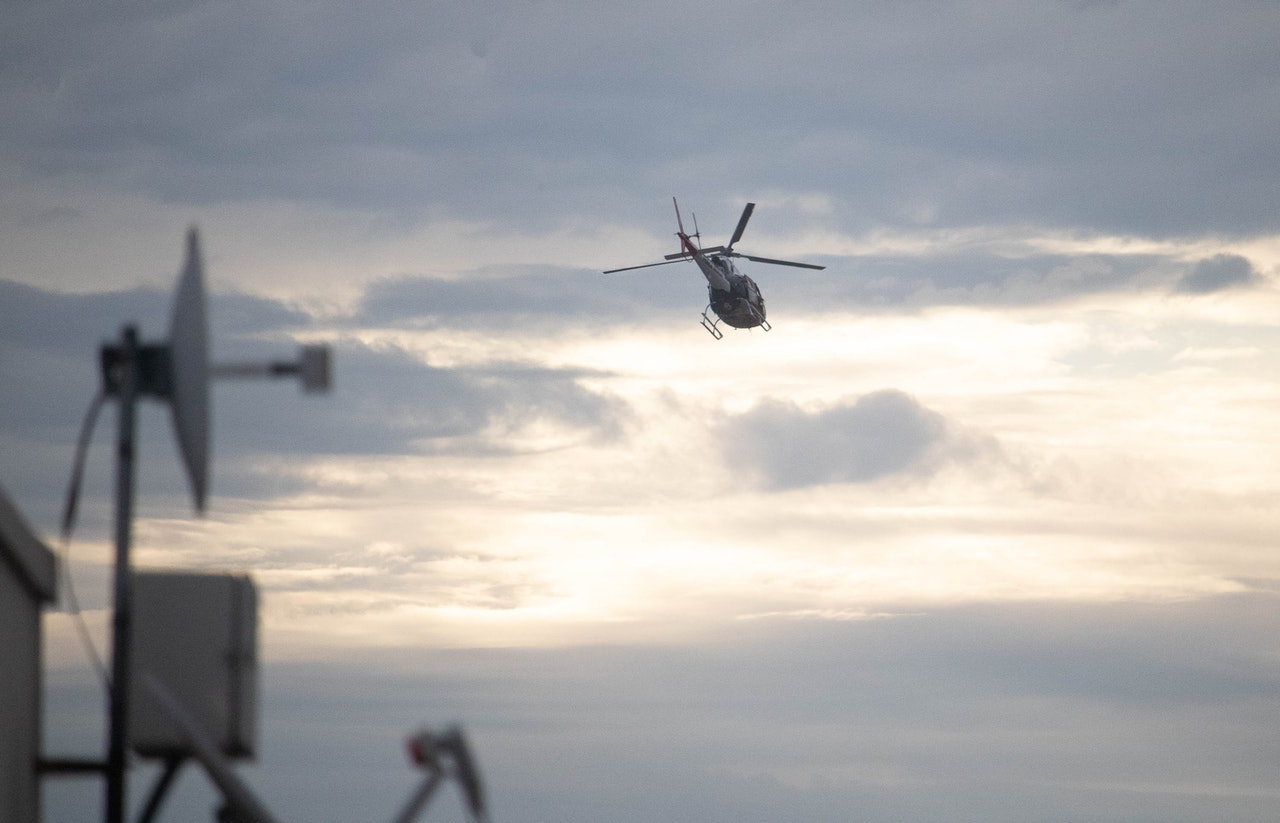heli: (603, 191, 827, 339)
